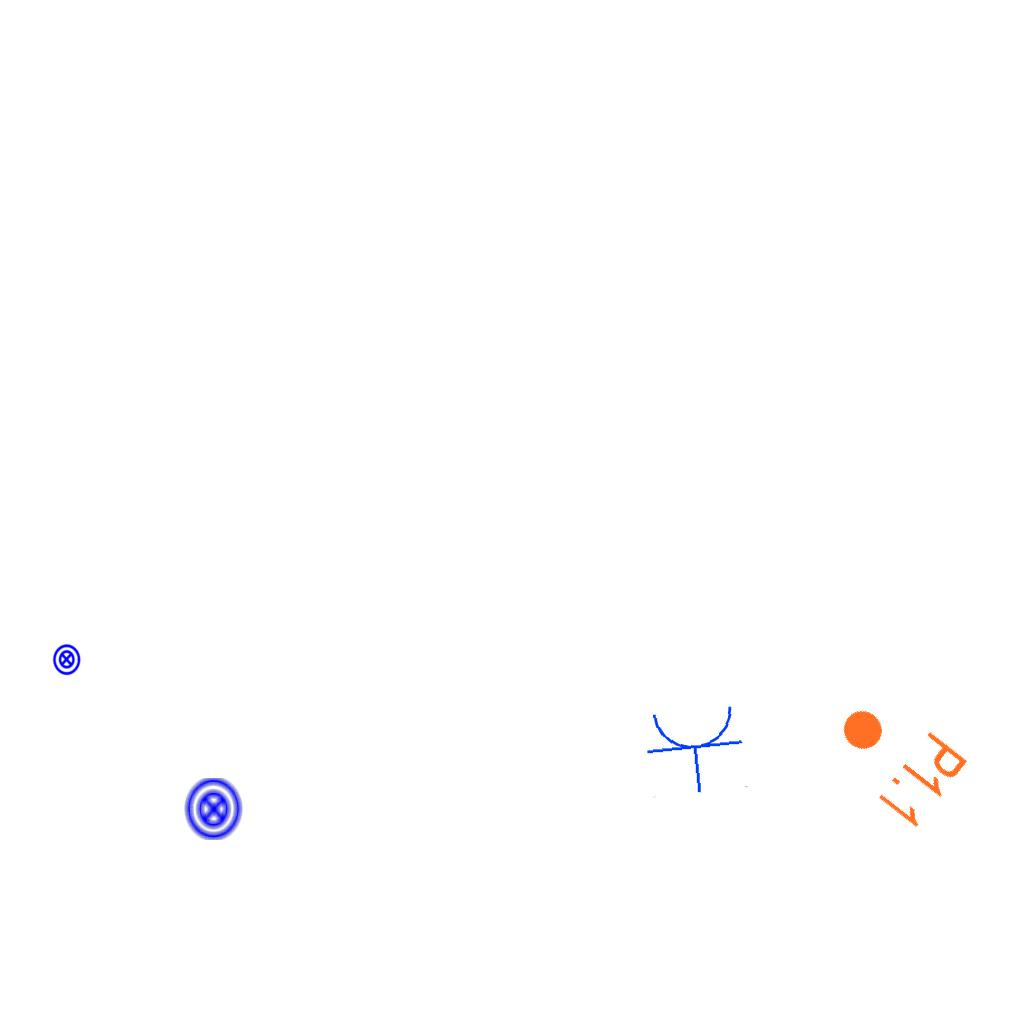Downlight_LED_Einbauleuchten_Flur: (814, 681, 973, 835)
Schukosteckdose_einfach: (641, 701, 751, 798)
Taster_beleuchtet: (181, 776, 247, 842), (50, 643, 83, 676)
